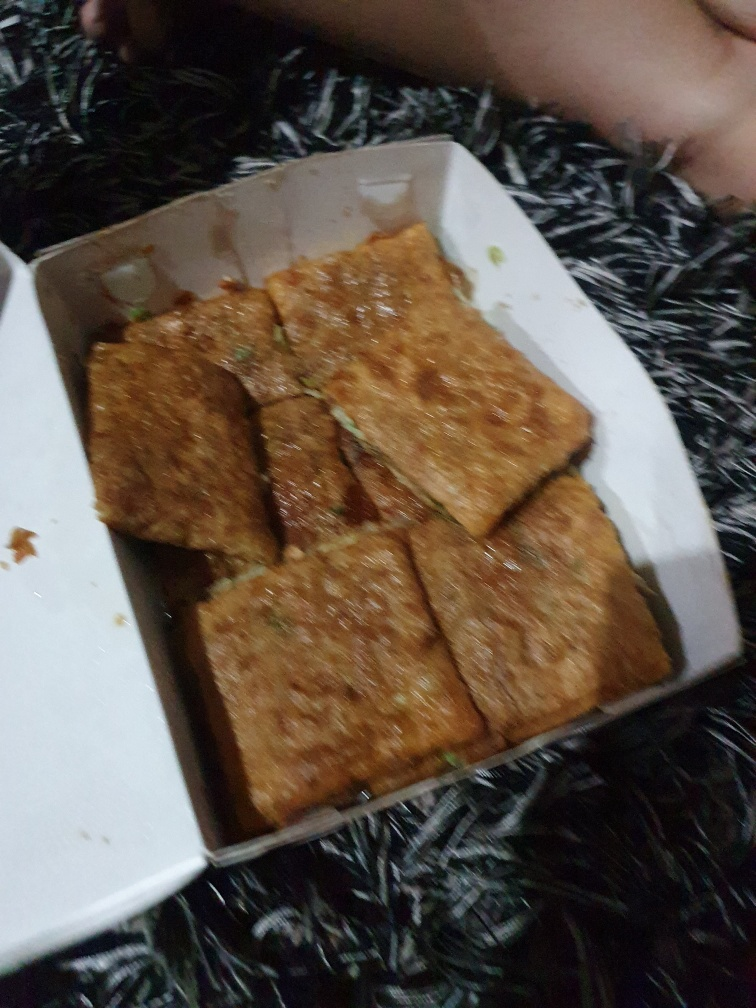martabak telor: (158, 537, 440, 790), (399, 491, 654, 719), (310, 291, 563, 515), (78, 322, 274, 543)
